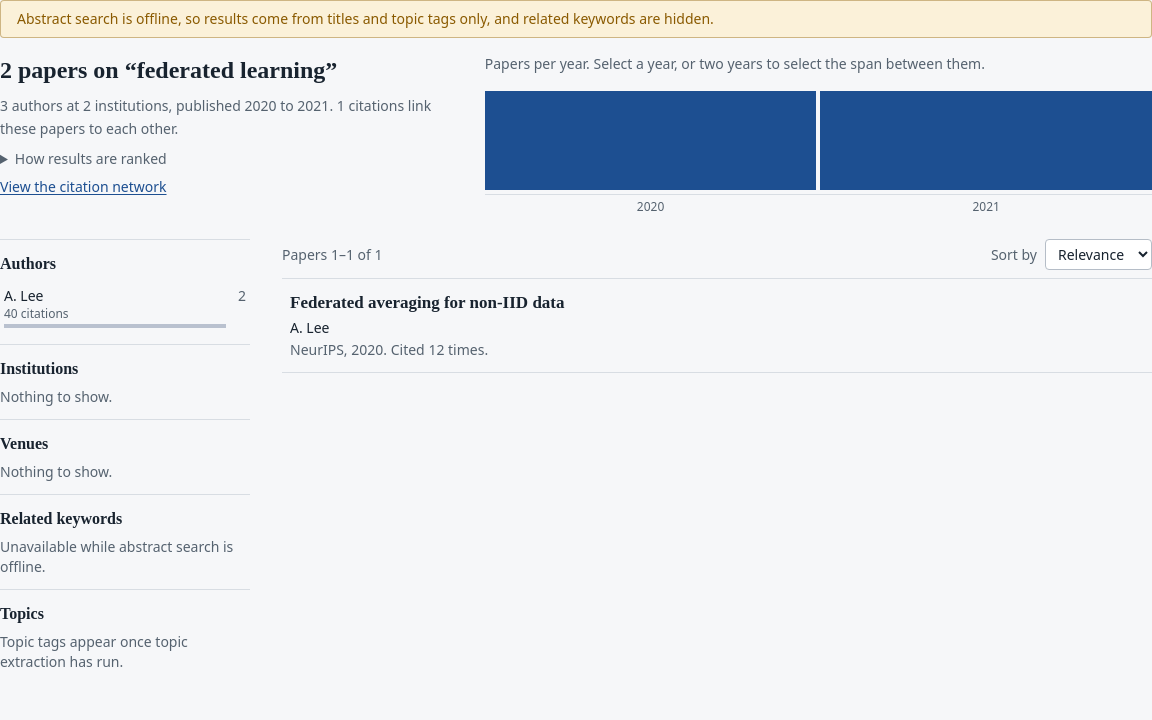
it: Explore › opens the paper peek drawer with an 'Open full page' link when a result is selected
Click the text "Federated averaging for non-IID data" at [427, 302], box [290, 293, 564, 312]
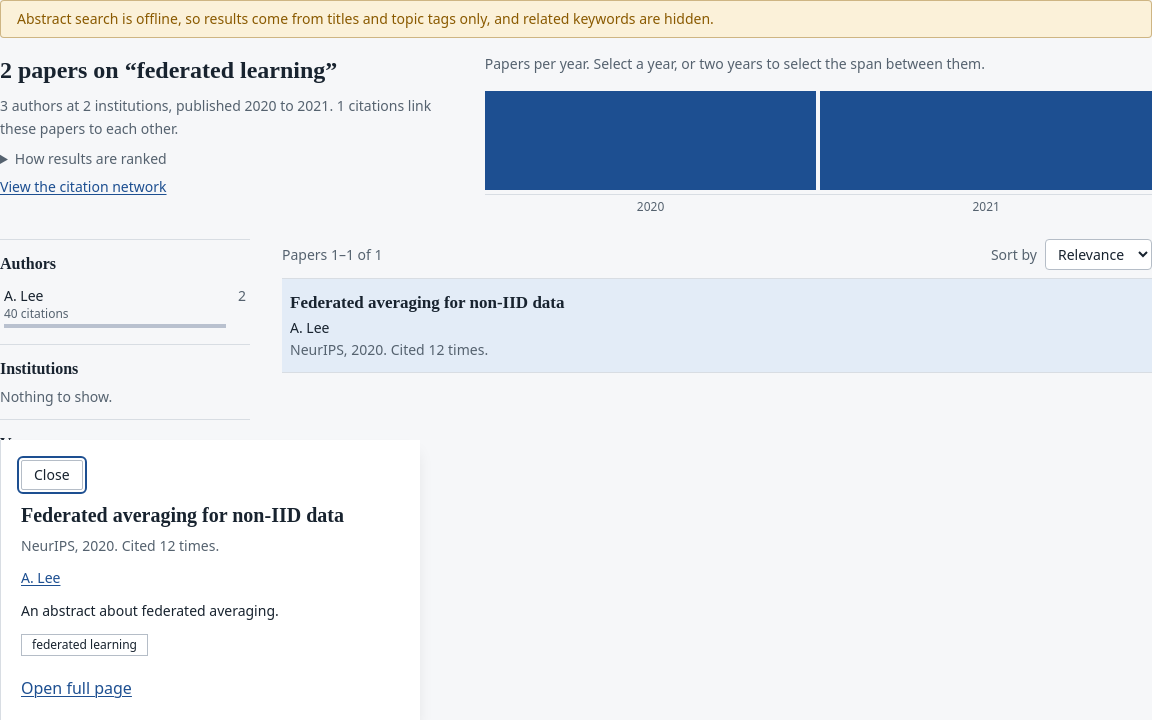
expect the link "Open full page" is shown: met, box [21, 677, 132, 699]
